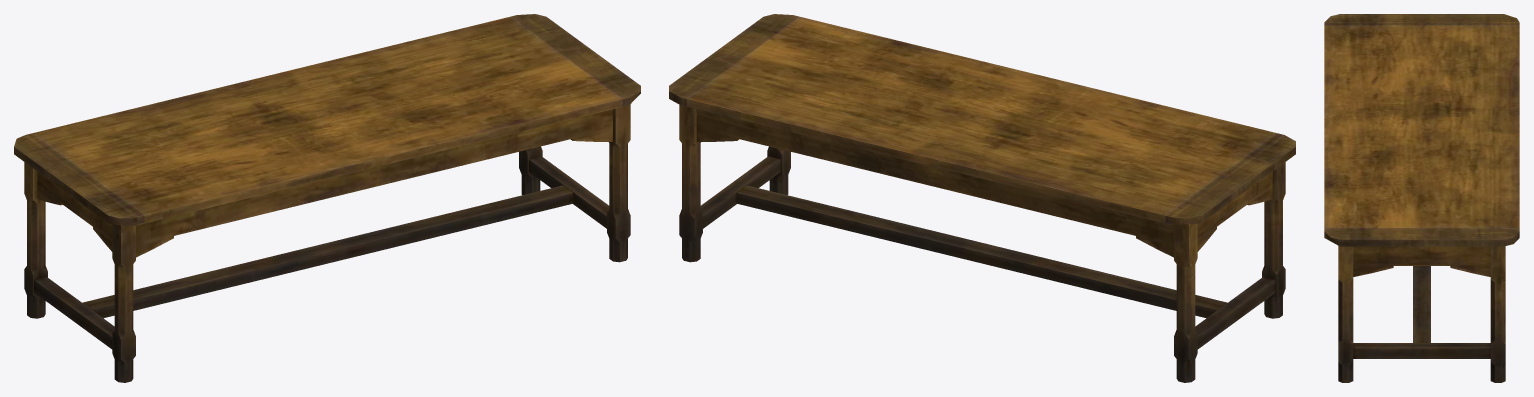
File: ph_WoodenTable_01.glb
3 views of the same model, side by side, from view 1: azimuth 30°, elevation 25°; view 2: azimuth 150°, elevation 25°; view 3: azimuth 270°, elevation 25° (orthographic). The views are drawn at different scales.
Visible parts, largest first — view 1: WoodenTable_01; view 2: WoodenTable_01; view 3: WoodenTable_01.
Boxes of the visible parts, left/top/right/bottom form: WoodenTable_01: left=14, top=14, right=640, bottom=382; WoodenTable_01: left=669, top=14, right=1295, bottom=382; WoodenTable_01: left=1324, top=14, right=1519, bottom=382.
Size of the model in its own units: 1.79 by 0.5488 by 0.6572.
Materials: 1 (1 with a texture image).
